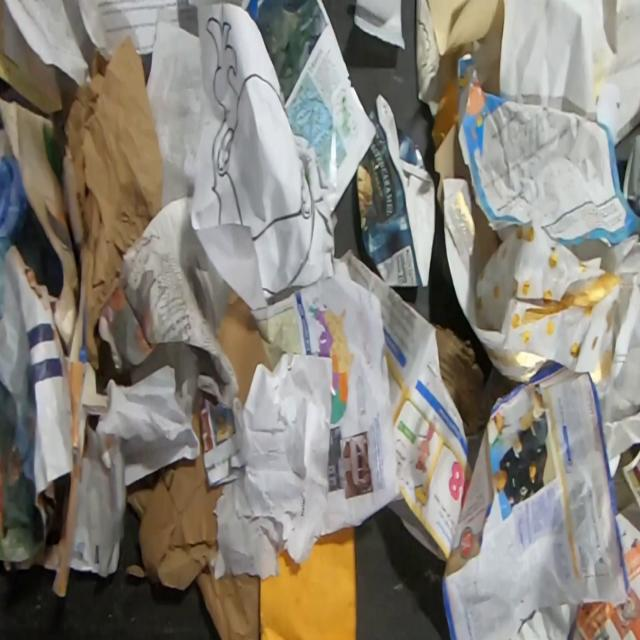cardboard: (125, 399, 260, 640), (356, 90, 436, 288), (435, 325, 523, 438), (216, 287, 273, 410), (434, 122, 471, 216)
